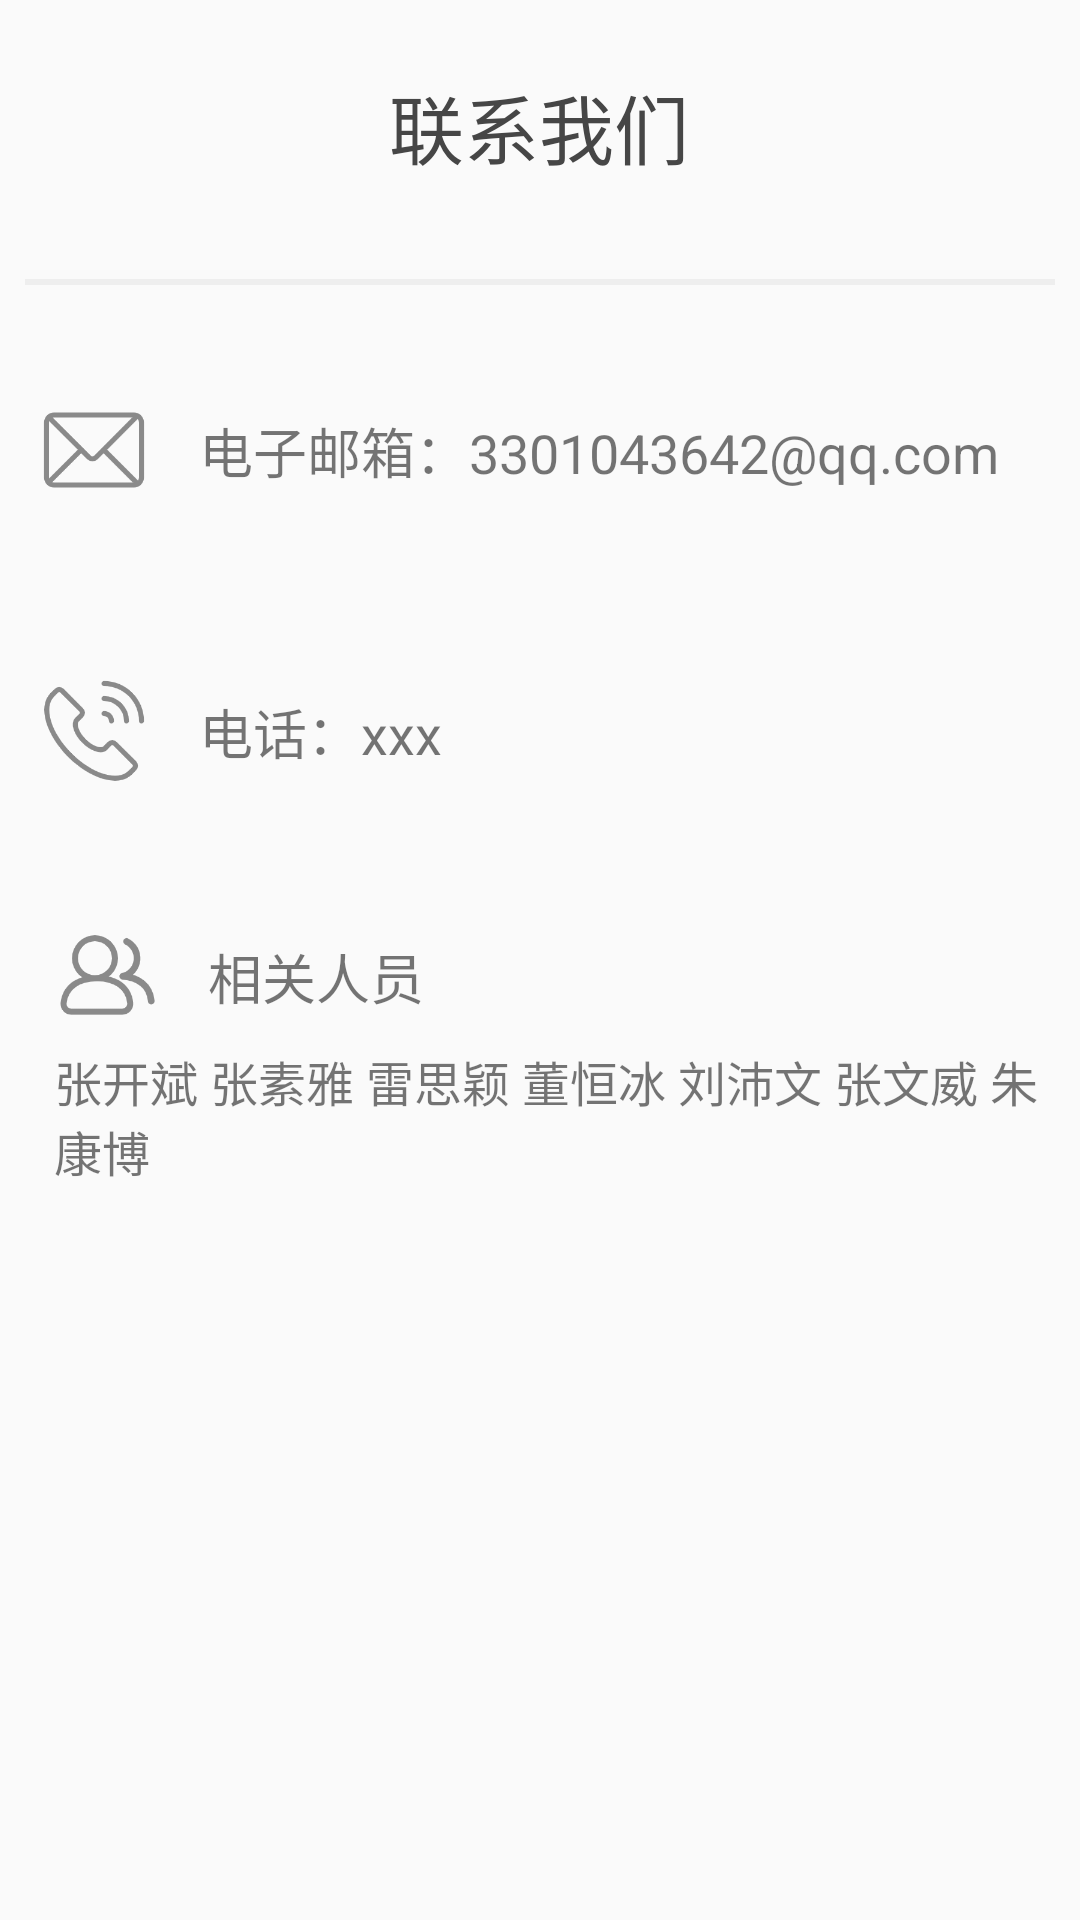

Where icons sit on this 1080px x 1920px app screen, as Rect(x1, y1, x2, y2):
mail: Rect(44, 412, 144, 488)
person: Rect(60, 935, 155, 1015)
phone: Rect(44, 681, 144, 781)
